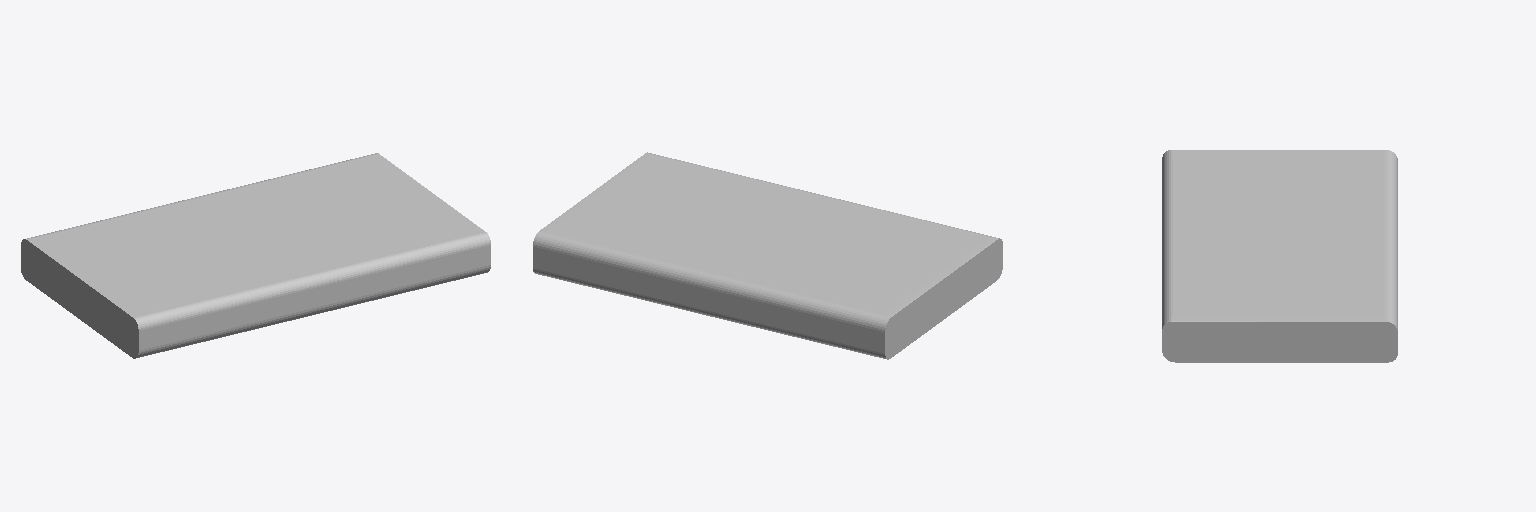
The model's file is battery.obj.
The picture shows the model from 3 angles: view 1: azimuth 30°, elevation 25°; view 2: azimuth 150°, elevation 25°; view 3: azimuth 270°, elevation 25°; orthographic projection.
Visible parts, largest first — view 1: battery; view 2: battery; view 3: battery.
Boxes of the visible parts, x1=… form: battery: x1=21, y1=153, x2=490, y2=358; battery: x1=533, y1=152, x2=1002, y2=359; battery: x1=1162, y1=150, x2=1397, y2=362.
Size of the model in its own units: 1.73 by 0.1923 by 1.